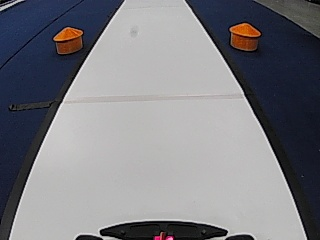granary: (228, 20, 262, 51), (52, 25, 83, 54)
